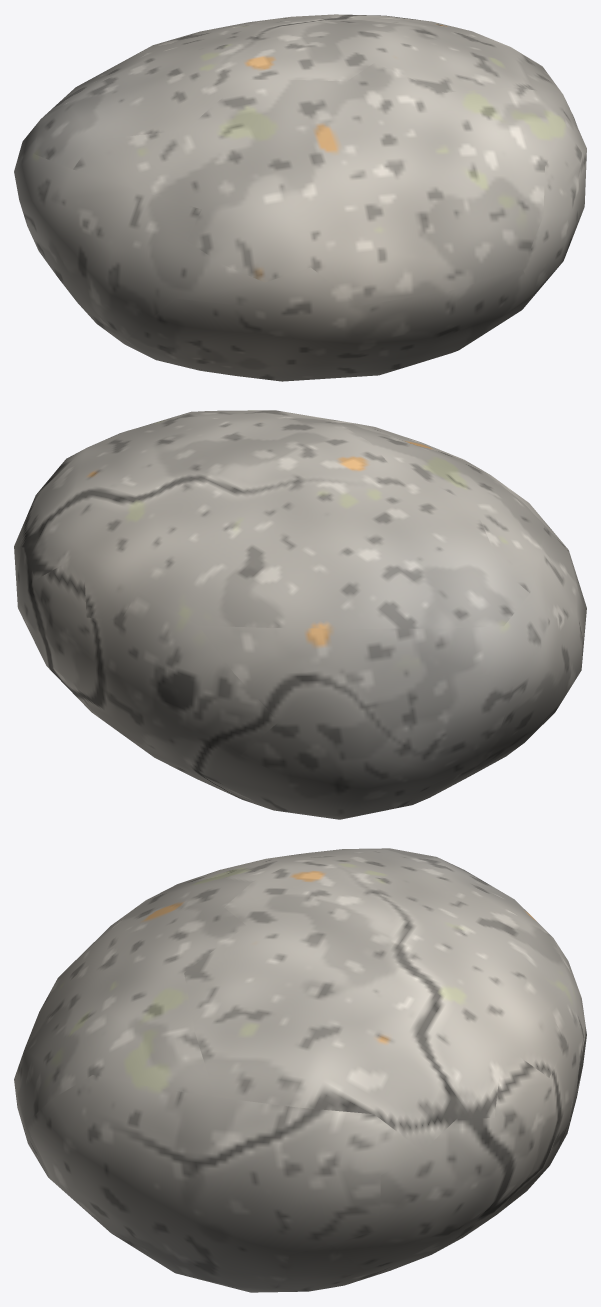
The model's file is pebble_b.glb.
3 views of the same model, one above another, from view 1: azimuth 30°, elevation 25°; view 2: azimuth 150°, elevation 25°; view 3: azimuth 270°, elevation 25° (orthographic). The views are drawn at different scales.
Visible parts, largest first — view 1: Rock; view 2: Rock; view 3: Rock.
Boxes of the visible parts, bbox=[...] form: Rock: bbox=[14, 14, 586, 381]; Rock: bbox=[14, 410, 586, 819]; Rock: bbox=[14, 848, 586, 1292].
Size of the model in its own units: 0.5167 by 0.3002 by 0.4575.
1 material, 1 textured.
